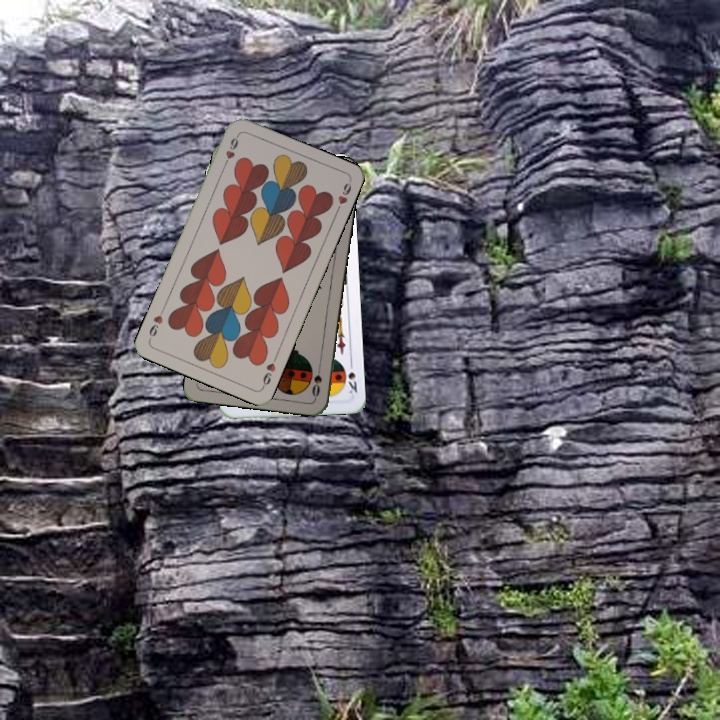H9: (219, 131, 242, 170), (258, 352, 280, 390)
SK: (344, 357, 360, 397)
SO: (308, 359, 325, 400)
